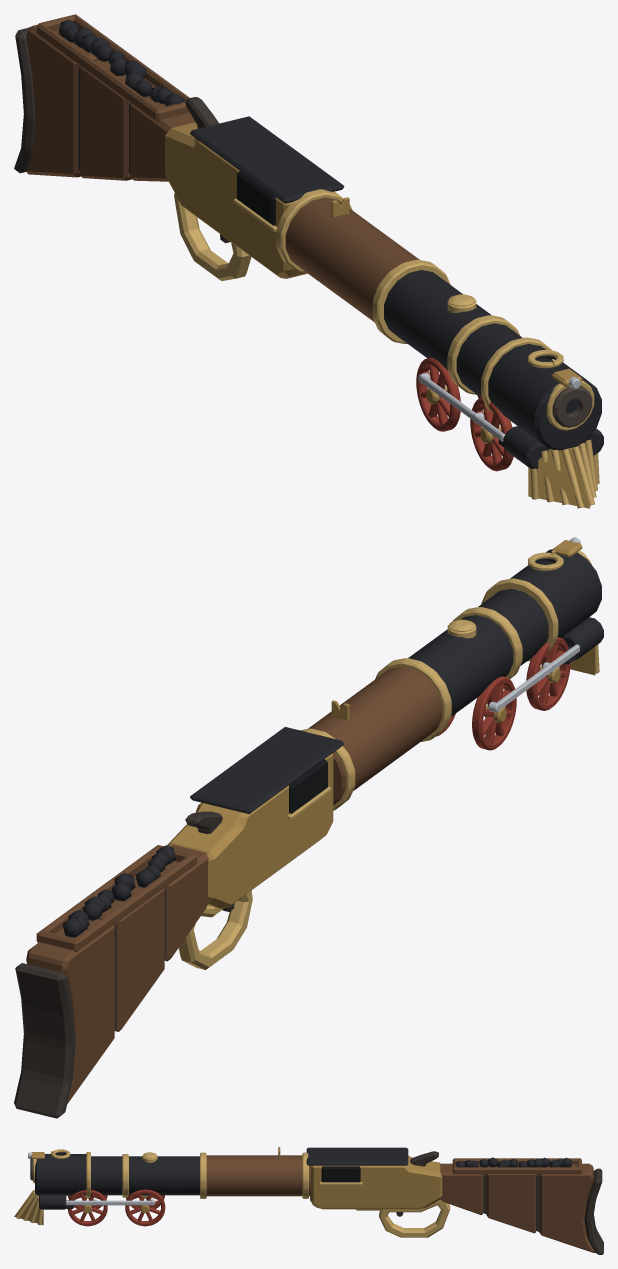
The model's file is w_lever@lever_dust.glb.
3 renders of one model, top to bottom at view 1: azimuth 30°, elevation 25°; view 2: azimuth 150°, elevation 25°; view 3: azimuth 270°, elevation 25°, orthographic. The views are drawn at different scales.
Parts seen in each view (by area): view 1: stock_wzA__wood__p6b4a32, barrel_wzB__boiler__p25272c, fore_wzA__wood__p6b4a32, body_wzA__brass__pa8874a, body_wzN__boiler__p25272c, wheel_wzN__red__p8e3a2e, barrel_wzN__brass2__pc4a463, fore_wzN__brass2__pc4a463, coal_wzN__boiler__p25272c, stock_wzB__metal__p3b3531, pilot_wzN__brass2__pc4a463, lever_wzN__brass2__pc4a463 (+5 smaller); view 2: stock_wzA__wood__p6b4a32, barrel_wzB__boiler__p25272c, body_wzA__brass__pa8874a, fore_wzA__wood__p6b4a32, stock_wzB__metal__p3b3531, body_wzN__boiler__p25272c, wheel_wzN__red__p8e3a2e, barrel_wzN__brass2__pc4a463, coal_wzN__boiler__p25272c, lever_wzN__brass2__pc4a463, fore_wzN__brass2__pc4a463, body_wzN__black__p16171b (+2 smaller); view 3: stock_wzA__wood__p6b4a32, barrel_wzB__boiler__p25272c, body_wzA__brass__pa8874a, fore_wzA__wood__p6b4a32, body_wzN__boiler__p25272c, wheel_wzN__red__p8e3a2e, stock_wzB__metal__p3b3531, lever_wzN__brass2__pc4a463, coal_wzN__boiler__p25272c, barrel_wzN__brass2__pc4a463, body_wzN__black__p16171b, fore_wzN__brass2__pc4a463 (+6 smaller).
Part boxes in pixels (left/top/right/bottom): stock_wzA__wood__p6b4a32: left=26, top=14, right=195, bottom=181; barrel_wzB__boiler__p25272c: left=384, top=270, right=601, bottom=450; fore_wzA__wood__p6b4a32: left=285, top=197, right=419, bottom=322; body_wzA__brass__pa8874a: left=165, top=122, right=307, bottom=278; body_wzN__boiler__p25272c: left=190, top=116, right=344, bottom=203; wheel_wzN__red__p8e3a2e: left=416, top=357, right=513, bottom=471; barrel_wzN__brass2__pc4a463: left=447, top=294, right=594, bottom=430; fore_wzN__brass2__pc4a463: left=276, top=189, right=450, bottom=343; coal_wzN__boiler__p25272c: left=58, top=19, right=184, bottom=106; stock_wzB__metal__p3b3531: left=14, top=27, right=150, bottom=174; pilot_wzN__brass2__pc4a463: left=530, top=439, right=599, bottom=508; lever_wzN__brass2__pc4a463: left=174, top=193, right=251, bottom=281; stock_wzA__wood__p6b4a32: left=26, top=844, right=209, bottom=1103; barrel_wzB__boiler__p25272c: left=408, top=549, right=601, bottom=716; body_wzA__brass__pa8874a: left=167, top=753, right=333, bottom=908; fore_wzA__wood__p6b4a32: left=308, top=666, right=442, bottom=805; stock_wzB__metal__p3b3531: left=14, top=878, right=166, bottom=1118; body_wzN__boiler__p25272c: left=190, top=727, right=344, bottom=813; wheel_wzN__red__p8e3a2e: left=436, top=637, right=570, bottom=750; barrel_wzN__brass2__pc4a463: left=447, top=550, right=591, bottom=678; coal_wzN__boiler__p25272c: left=62, top=845, right=175, bottom=937; lever_wzN__brass2__pc4a463: left=178, top=890, right=252, bottom=969; fore_wzN__brass2__pc4a463: left=300, top=658, right=451, bottom=810; body_wzN__black__p16171b: left=289, top=759, right=327, bottom=813; stock_wzA__wood__p6b4a32: left=440, top=1158, right=594, bottom=1252; barrel_wzB__boiler__p25272c: left=35, top=1154, right=199, bottom=1195; body_wzA__brass__pa8874a: left=310, top=1155, right=442, bottom=1209; fore_wzA__wood__p6b4a32: left=206, top=1155, right=310, bottom=1196; body_wzN__boiler__p25272c: left=306, top=1147, right=408, bottom=1165; wheel_wzN__red__p8e3a2e: left=67, top=1189, right=165, bottom=1226; stock_wzB__metal__p3b3531: left=483, top=1168, right=603, bottom=1254; lever_wzN__brass2__pc4a463: left=356, top=1199, right=450, bottom=1237; coal_wzN__boiler__p25272c: left=455, top=1157, right=571, bottom=1167; barrel_wzN__brass2__pc4a463: left=33, top=1152, right=157, bottom=1197; body_wzN__black__p16171b: left=321, top=1166, right=360, bottom=1182; fore_wzN__brass2__pc4a463: left=200, top=1152, right=308, bottom=1198.
Size of the model in its own units: 0.101 by 0.2315 by 1.23.
